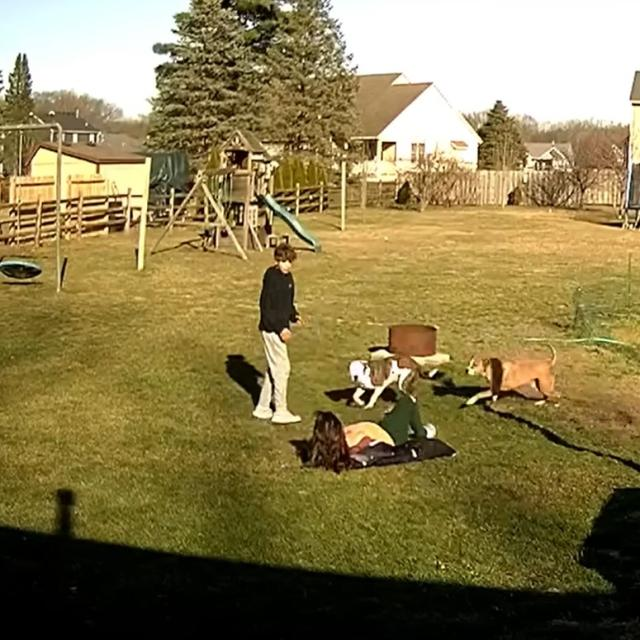fallen: (311, 395, 436, 470)
standing: (252, 243, 301, 423)
